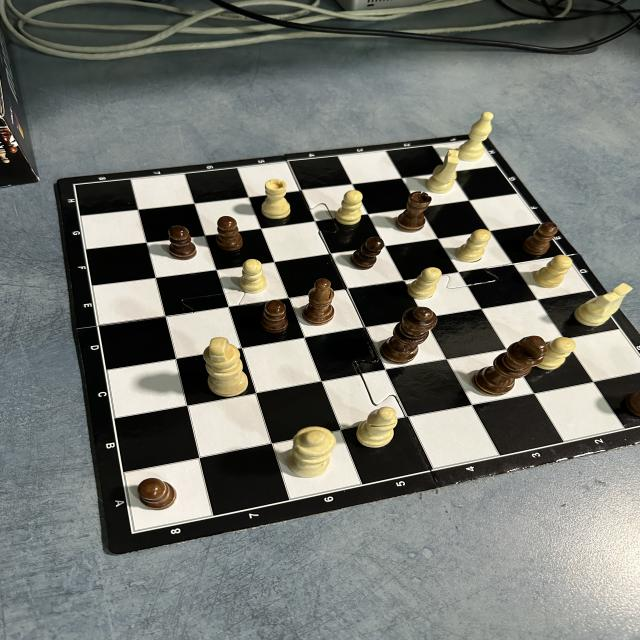Black-Bishop: (303, 279, 335, 324)
Black-King: (473, 335, 546, 395)
Black-Pawn: (138, 477, 177, 510), (522, 222, 557, 256), (350, 236, 384, 270), (168, 225, 196, 260), (260, 300, 288, 334), (215, 216, 242, 250)
Black-Queen: (381, 306, 438, 364)
Black-Rook: (397, 190, 432, 232)
White-Bishop: (458, 112, 493, 162), (356, 407, 398, 448)
White-King: (204, 338, 249, 397)
White-Knight: (575, 282, 633, 328), (426, 150, 459, 193)
White-Pawn: (535, 337, 575, 369), (535, 255, 571, 288), (457, 229, 491, 262), (409, 266, 441, 298), (336, 190, 363, 225), (239, 258, 266, 293)
White-Queen: (288, 427, 336, 477)
White-Rook: (262, 180, 290, 219)
